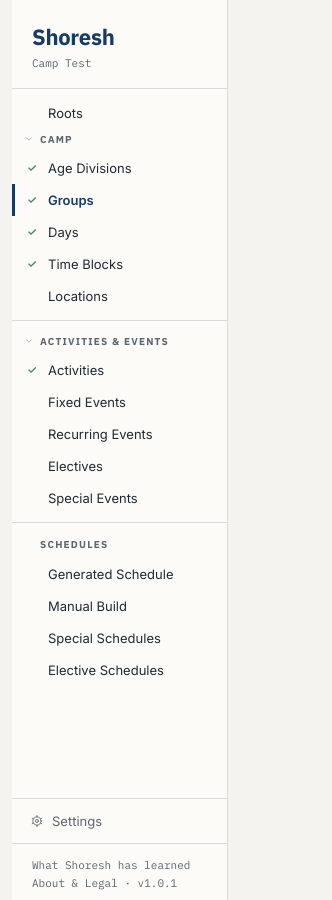
Sidebar: System items live behind the Settings gear › hides Devices from a non-admin role
Click the button titled "Settings".
click(120, 821)  # box x1=24 y1=805 x2=215 y2=837
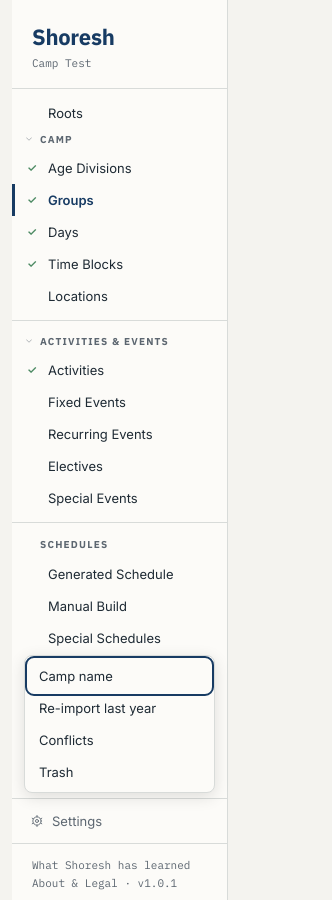
Now the text "Camp name" is shown, box x1=39 y1=668 x2=113 y2=684
